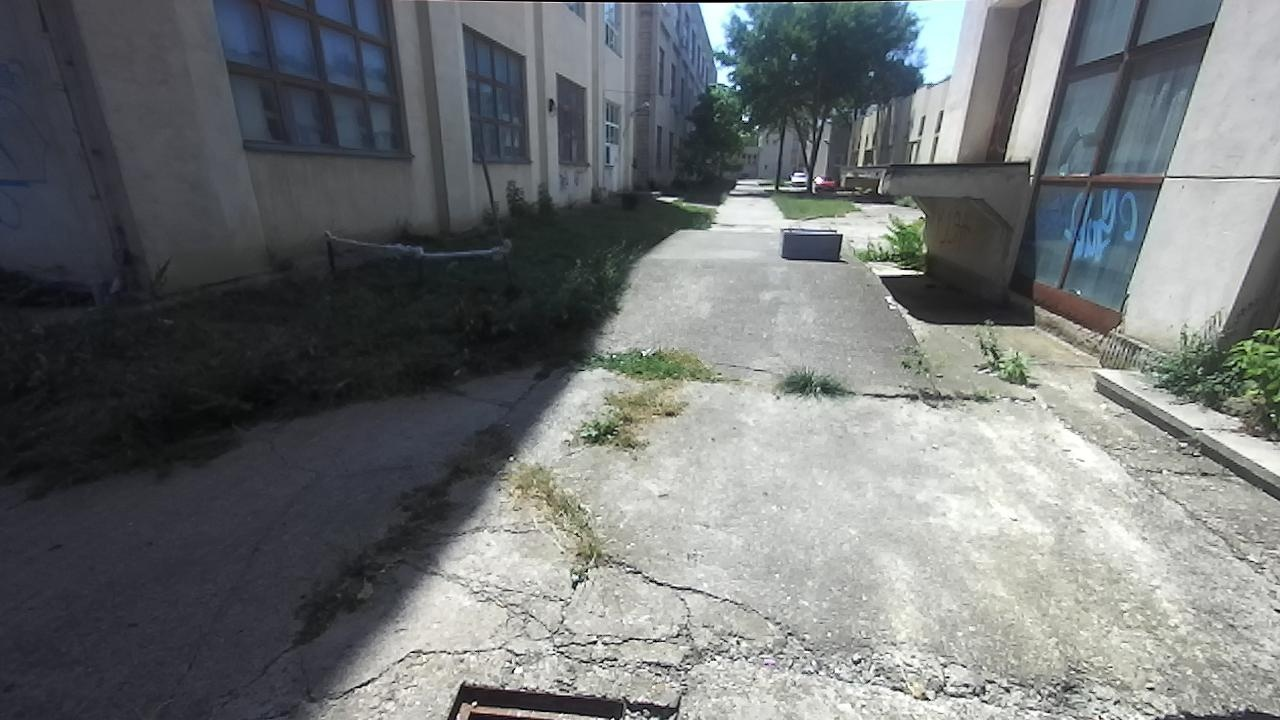drain: (444, 675, 629, 719)
